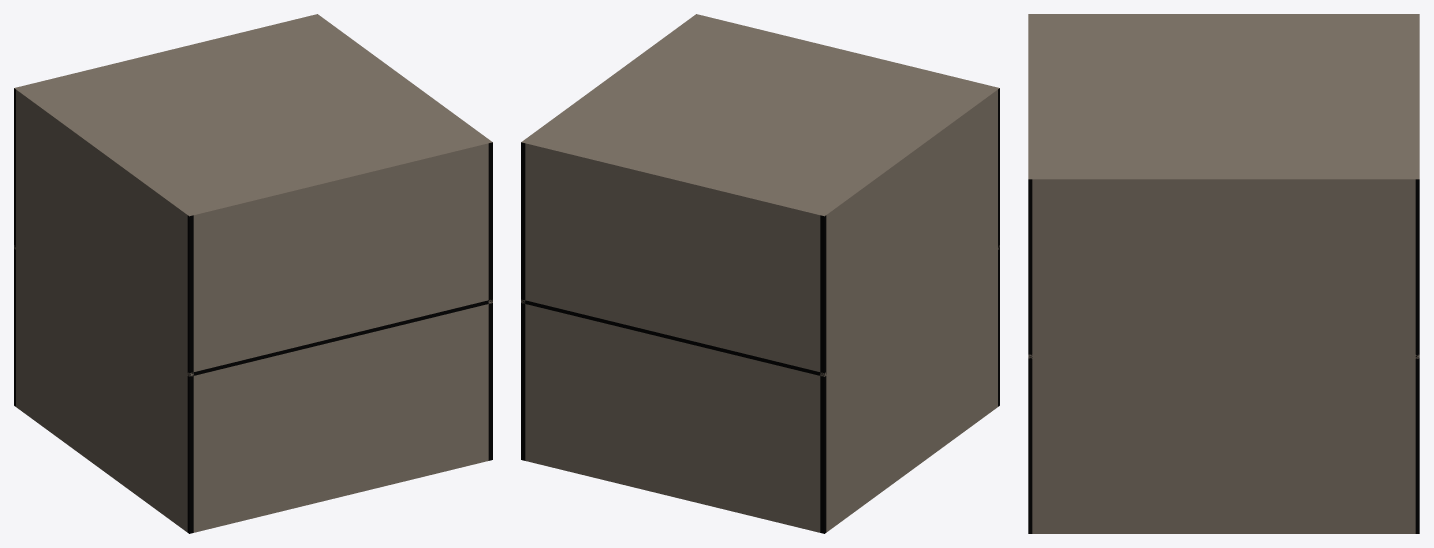
Rendered from Box-square.fbx.
3 views of the same model, side by side, from view 1: azimuth 30°, elevation 25°; view 2: azimuth 150°, elevation 25°; view 3: azimuth 270°, elevation 25° (orthographic). The views are drawn at different scales.
Parts seen in each view (by area): view 1: Box-square; view 2: Box-square; view 3: Box-square.
Boxes of the visible parts, box(x1,y1,x2,y2) form: Box-square: box(14, 14, 492, 533); Box-square: box(521, 14, 999, 533); Box-square: box(1028, 14, 1419, 533).
Bounding box in the file's own units: 2000 × 2000 × 2000.
